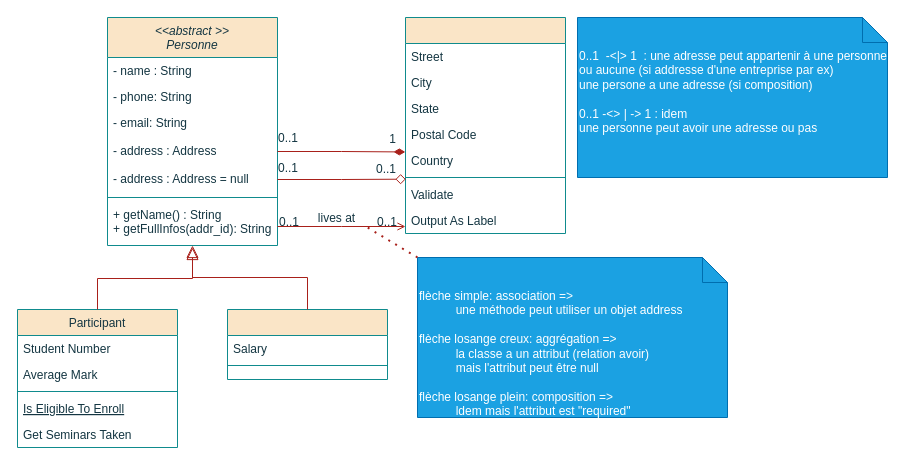
Image size: 905x468. Some labels were removed from this diagram. The shapes that lost their labels are listed below. From the top down, each one's box as (x1, y1, x2, y2) in pixels, then its label:
(404, 16, 566, 234): Address
(226, 308, 388, 380): Formateur
